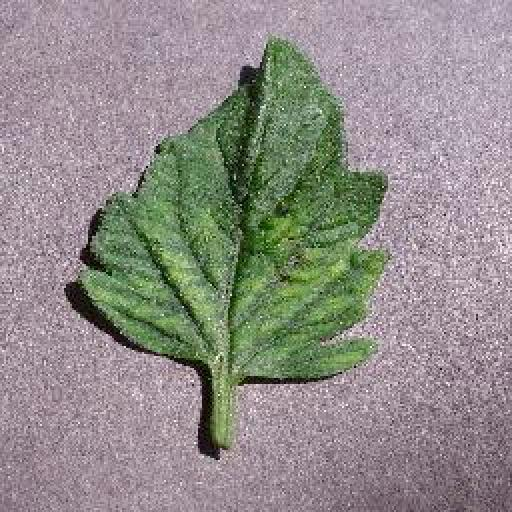disease_tomato: (78, 36, 390, 386)
